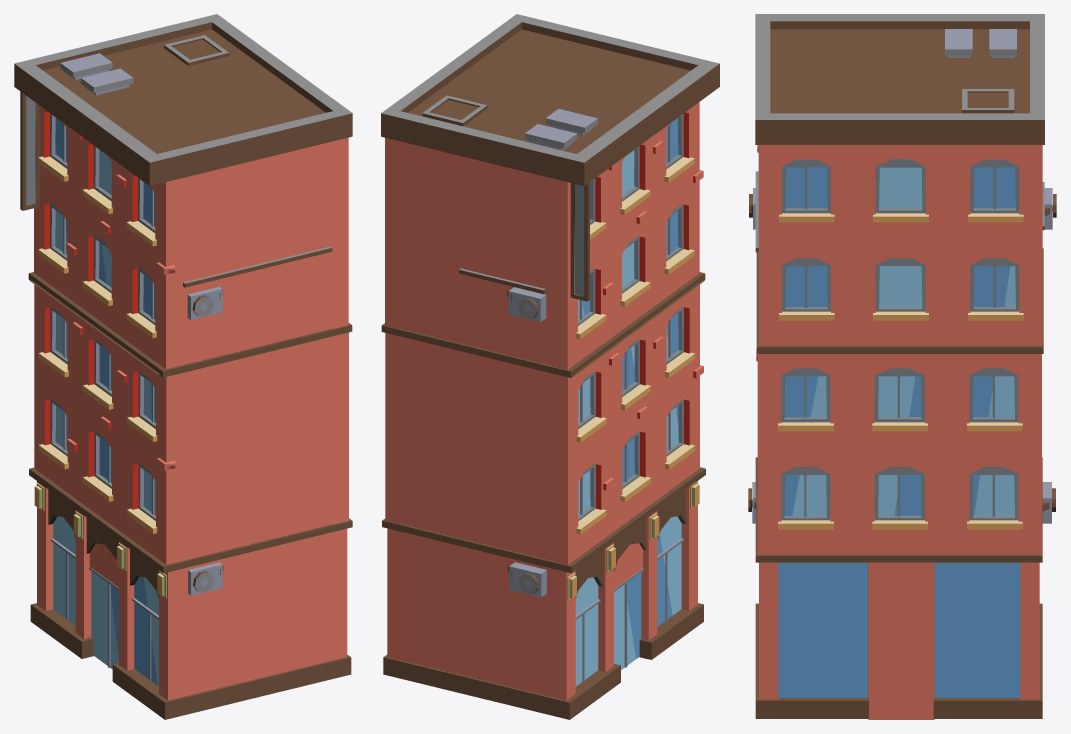
File: putong_zhongxing13.fbx
The picture shows the model from 3 angles, left to right: view 1: azimuth 30°, elevation 25°; view 2: azimuth 150°, elevation 25°; view 3: azimuth 270°, elevation 25°; orthographic projection. The views are drawn at different scales.
Parts seen in each view (by area): view 1: putong_zhongxing13; view 2: putong_zhongxing13; view 3: putong_zhongxing13.
Boxes of the visible parts, box(x1,y1,x2,y2) form: putong_zhongxing13: box(14, 14, 352, 719); putong_zhongxing13: box(381, 14, 719, 719); putong_zhongxing13: box(748, 14, 1056, 719).
Bounding box in the file's own units: 316 × 386 × 835.
